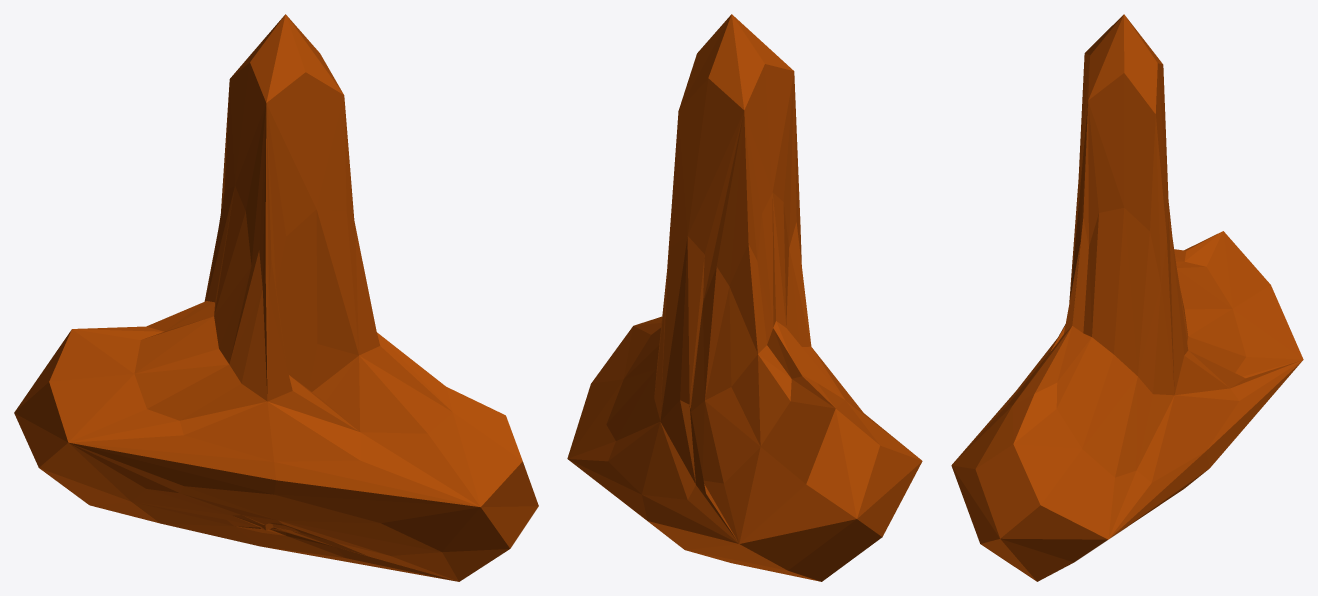
The picture shows the model from 3 angles, left to right: view 1: azimuth 30°, elevation 25°; view 2: azimuth 150°, elevation 25°; view 3: azimuth 270°, elevation 25°; orthographic projection. The views are drawn at different scales.
Parts seen in each view (by area): view 1: 297_Cube.1213; view 2: 297_Cube.1213; view 3: 297_Cube.1213.
Part boxes in pixels (x1,y1,x2,y2): 297_Cube.1213: (14,14,538,581); 297_Cube.1213: (567,14,922,581); 297_Cube.1213: (951,14,1303,581).
Size of the model in its own units: 10.13 by 13.95 by 8.7.
